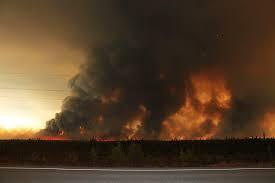smoke: (36, 1, 275, 139)
